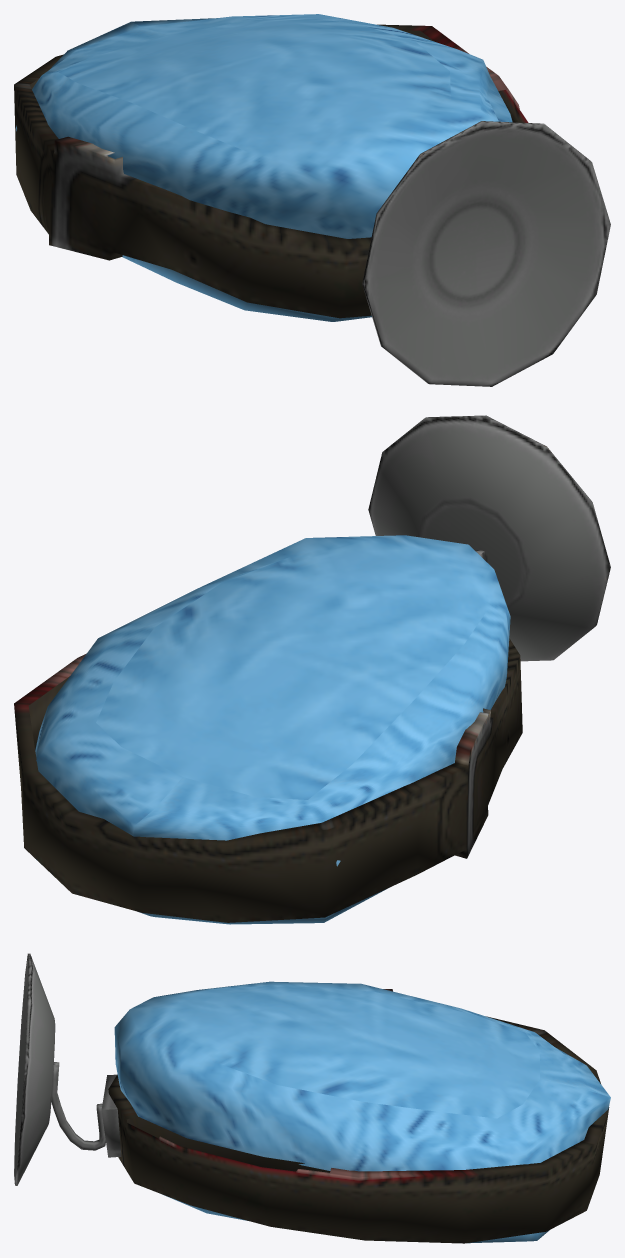
The model's file is DentistCap_Ground.fbx.
3 renders of one model, top to bottom at view 1: azimuth 30°, elevation 25°; view 2: azimuth 150°, elevation 25°; view 3: azimuth 270°, elevation 25°, orthographic. The views are drawn at different scales.
Visible parts, largest first — view 1: DentistCap.001; view 2: DentistCap.001; view 3: DentistCap.001.
Boxes of the visible parts, x1,y1,x2,y2 form: DentistCap.001: (14, 14, 610, 386); DentistCap.001: (14, 415, 610, 924); DentistCap.001: (14, 953, 610, 1243).
Size of the model in its own units: 0.1276 by 0.078 by 0.1892.
